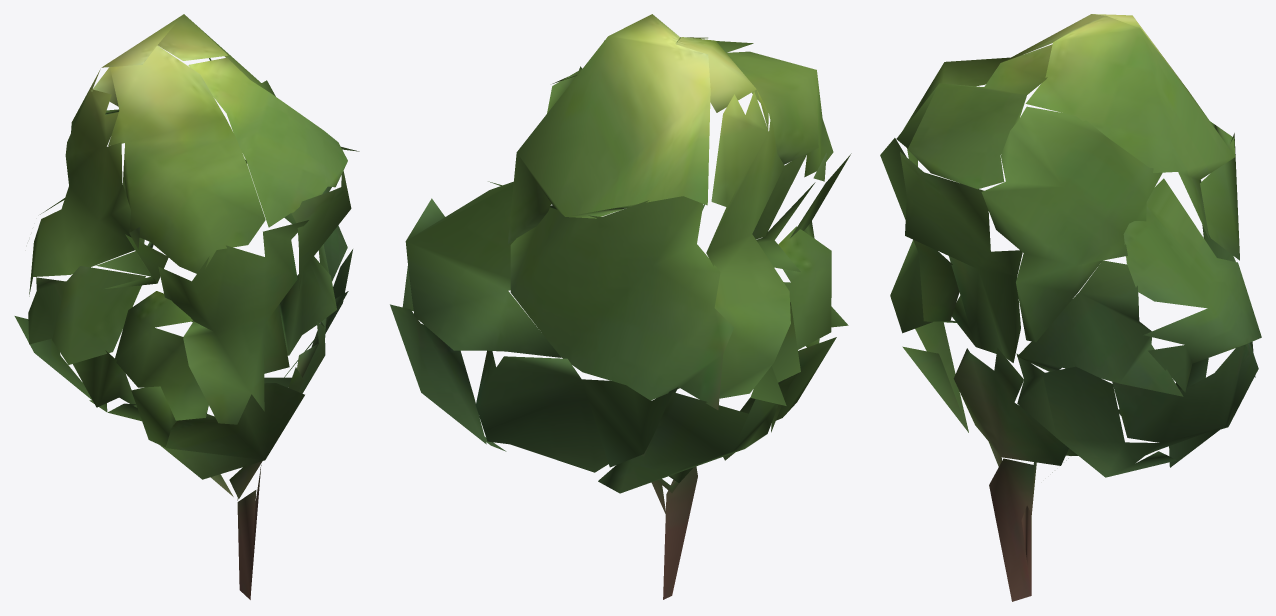
Rendered from tree_tall_far.glb.
3 views of the same model, side by side, from view 1: azimuth 30°, elevation 25°; view 2: azimuth 150°, elevation 25°; view 3: azimuth 270°, elevation 25° (orthographic). The views are drawn at different scales.
Parts seen in each view (by area): view 1: tripo_node_01a21d09-2676-7e67-8832-73ad272b66bc; view 2: tripo_node_01a21d09-2676-7e67-8832-73ad272b66bc; view 3: tripo_node_01a21d09-2676-7e67-8832-73ad272b66bc.
Part boxes in pixels (left/top/right/bottom): tripo_node_01a21d09-2676-7e67-8832-73ad272b66bc: left=14, top=14, right=359, bottom=599; tripo_node_01a21d09-2676-7e67-8832-73ad272b66bc: left=390, top=14, right=851, bottom=599; tripo_node_01a21d09-2676-7e67-8832-73ad272b66bc: left=880, top=14, right=1261, bottom=601.
Bounding box in the file's own units: 5.31 × 8.36 × 5.07.
1 material, 1 textured.
